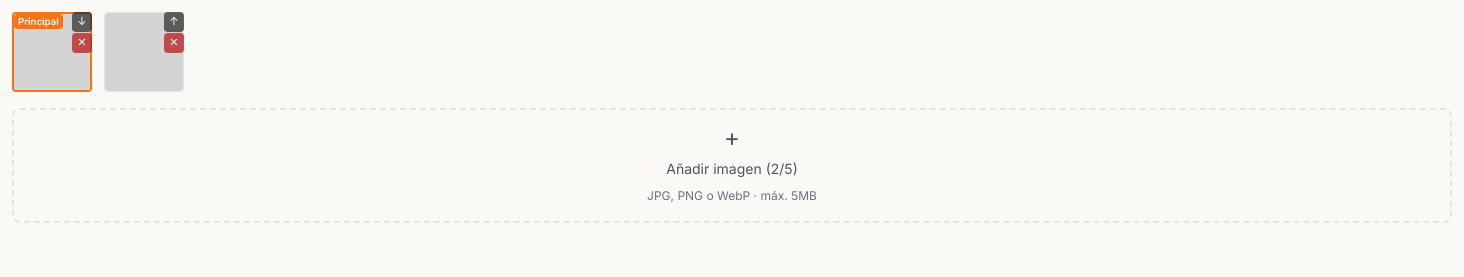
Test: ImageGallery — eliminar imagen (flujo completo) › muestra error en role="alert" cuando deleteProjectImage lanza excepción
Click the button named "eliminar imagen" at (82, 43), box [72, 33, 92, 53]
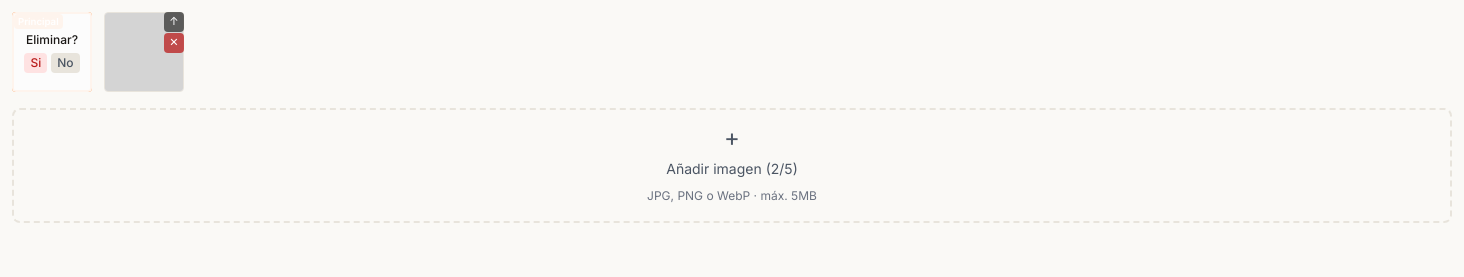
Click the button "Si" at (36, 63), box [24, 53, 47, 73]
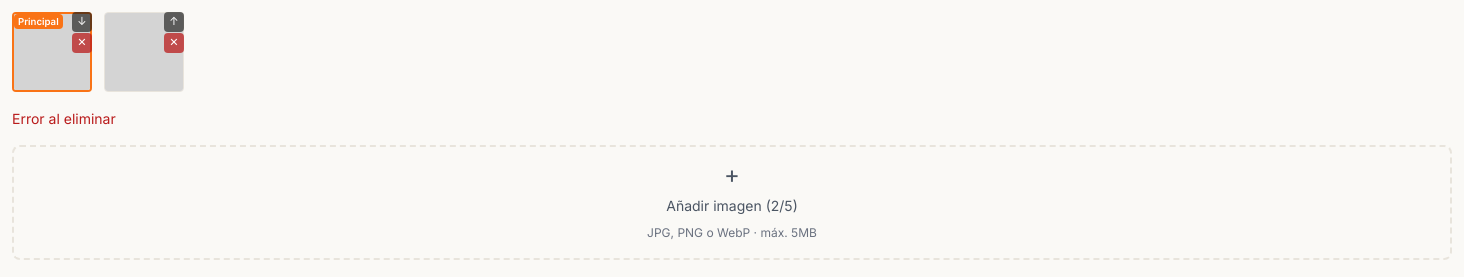
Now the message reads "Error al eliminar", box [12, 110, 116, 127]
